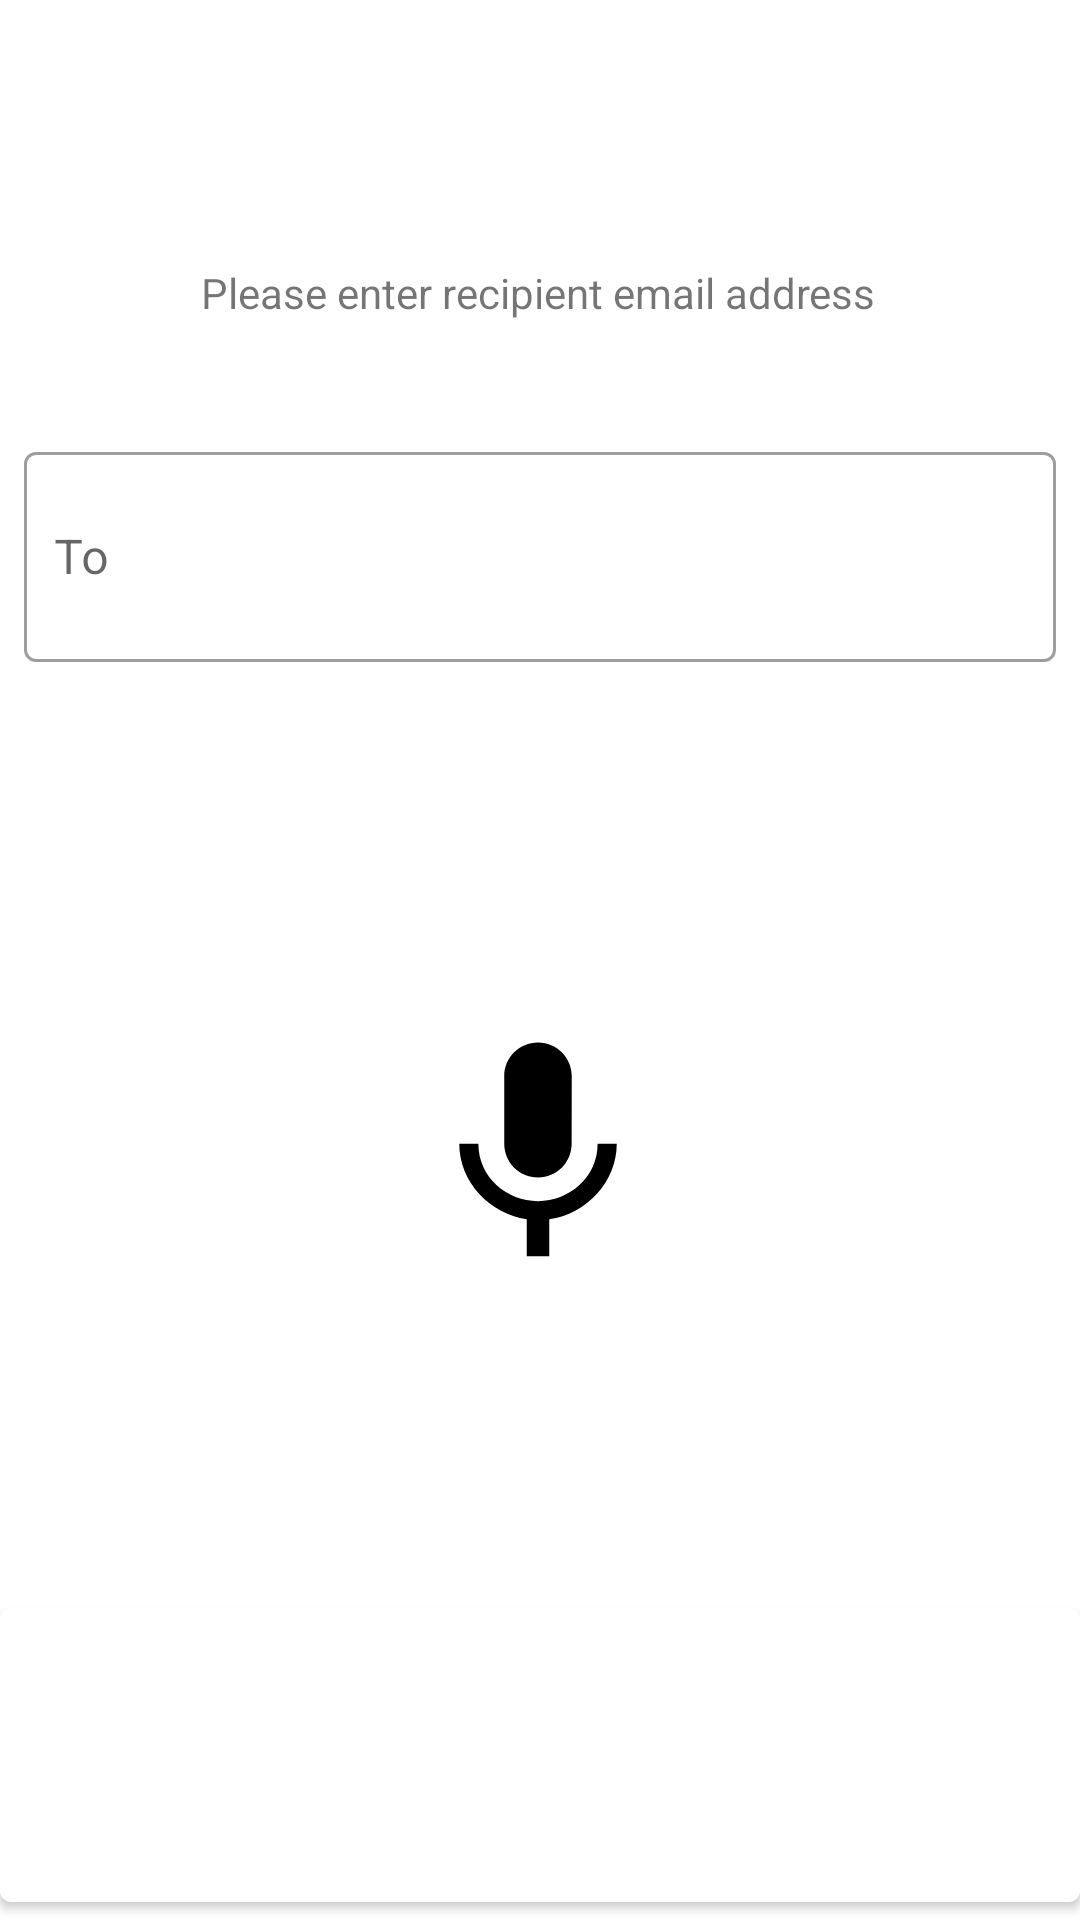

Where to tap for icons on this 1080w x 1920h app screen, as [x,y]:
mic: [538,1149]
